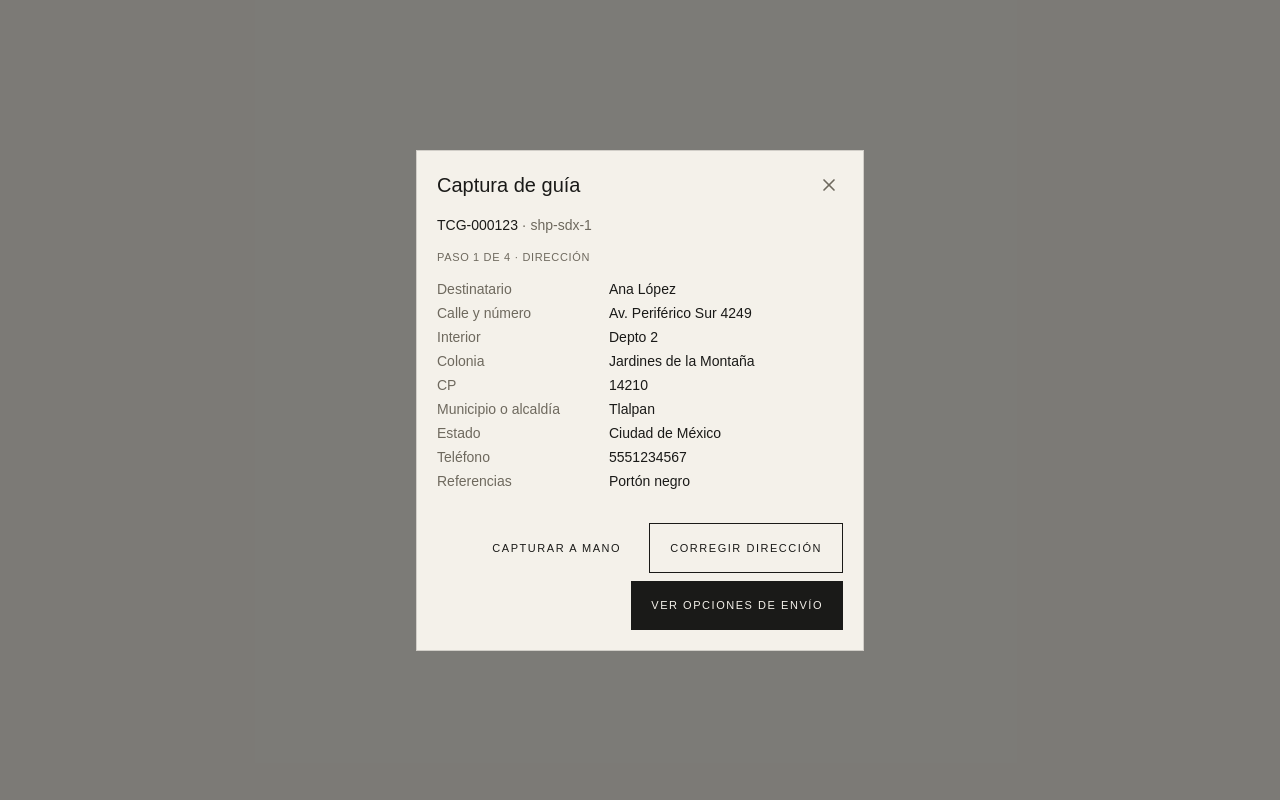
Test: UX-SDX-28 💰 = PS-158 (negativa) · el tope niega sin cifras y «Capturar a mano» es la primaria › (a) `labelOptions.limit:daily_spend` ⇒ cero «Comprar», su frase en el sitio del botón, «a mano» primaria y la nota del paso 2
Click the button "Ver opciones de envío".
click(737, 605)  # box left=631, top=581, right=843, bottom=630
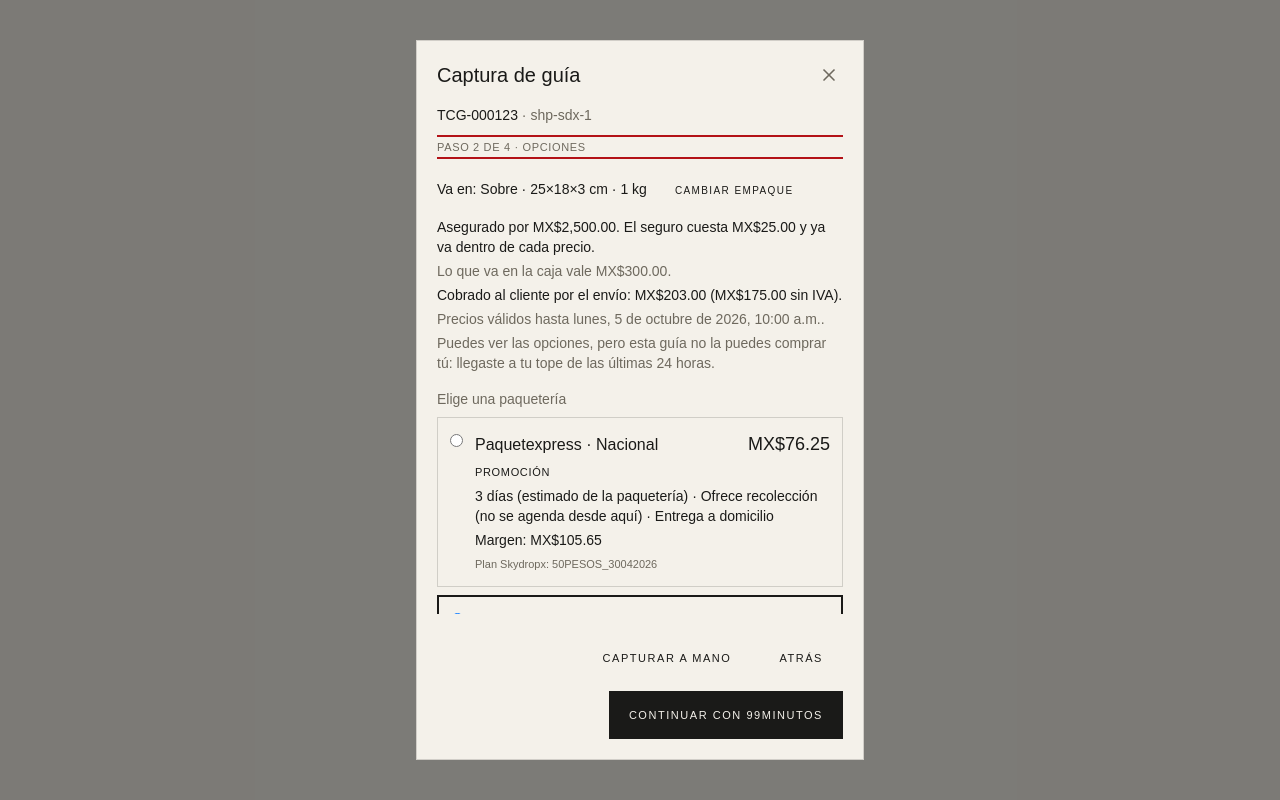
Expected: the text with test id "sdx-limit-note" shows "llegaste a tu tope de las últimas 24 horas", left=437, top=335, right=826, bottom=371
Click the button "Continuar con 99minutos".
click(726, 715)  # box left=609, top=690, right=843, bottom=739
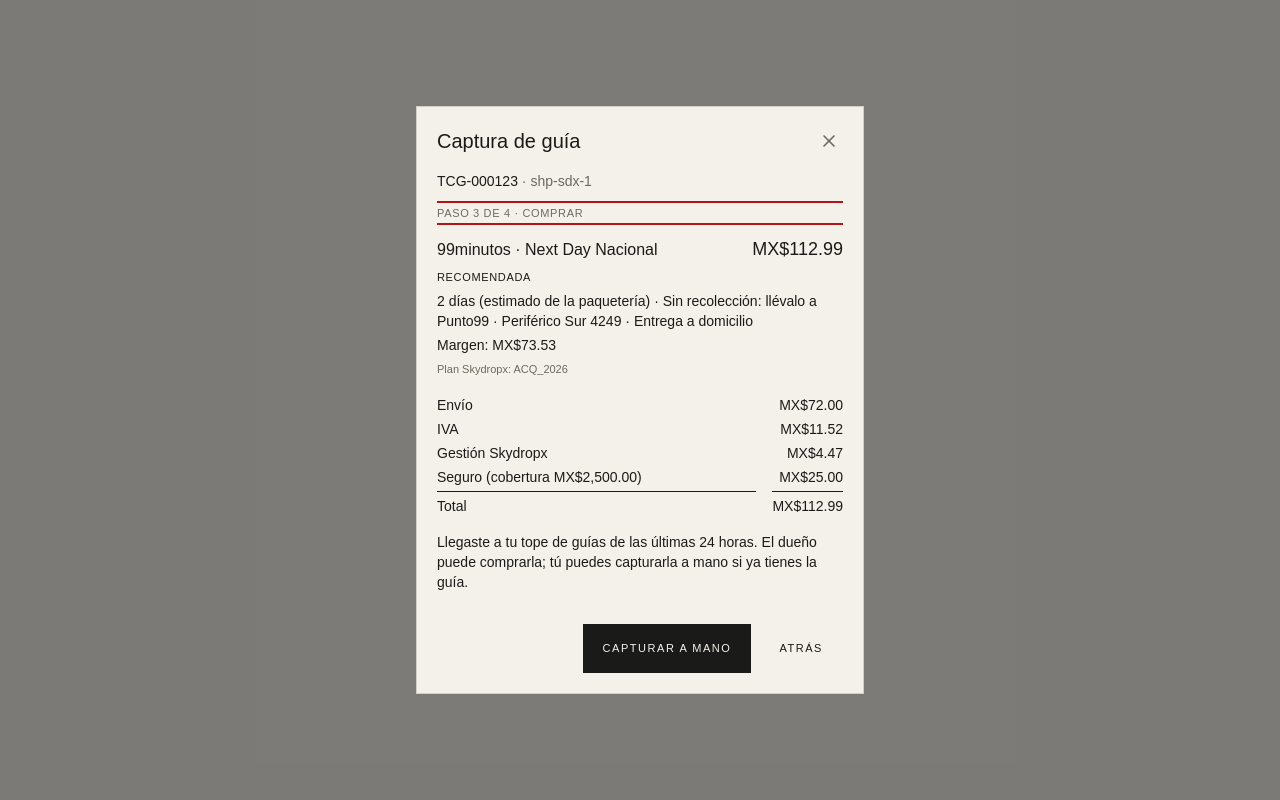
Expected: the text "Paso 3 de 4 · Comprar" is shown, left=437, top=203, right=843, bottom=223
Expected: the text with test id "sdx-cannot-buy" shows "Llegaste a tu tope de guías de las últimas 24 horas.", left=437, top=534, right=817, bottom=590
Expected: the number of buttons "Capturar a mano" is 1, left=583, top=624, right=751, bottom=673
